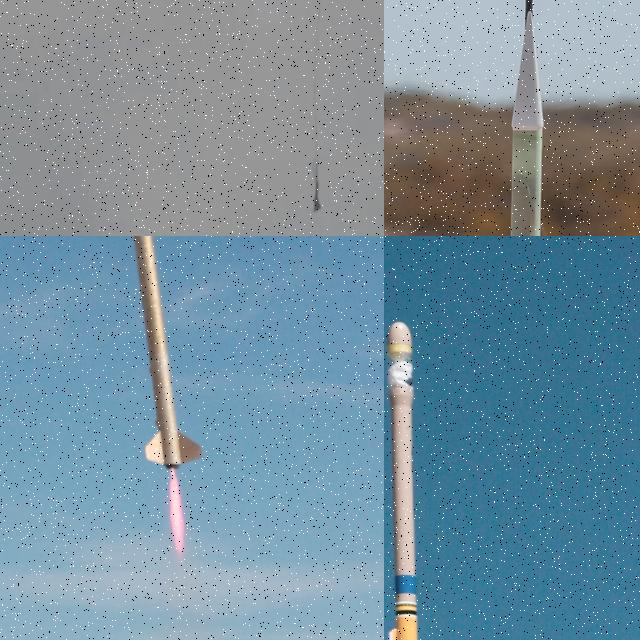Rocket: (384, 319, 458, 640), (484, 10, 569, 236), (131, 236, 205, 470), (312, 175, 322, 212)
